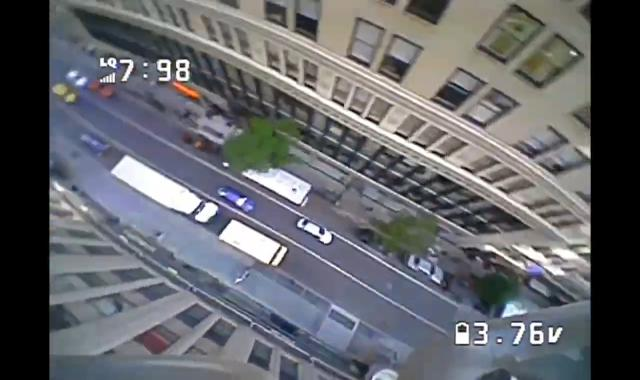car: (397, 244, 452, 294), (294, 212, 344, 252), (214, 177, 257, 220), (56, 58, 98, 100), (70, 126, 114, 161), (80, 74, 121, 108), (46, 77, 83, 114)
truck: (104, 142, 219, 235), (213, 212, 293, 277)
